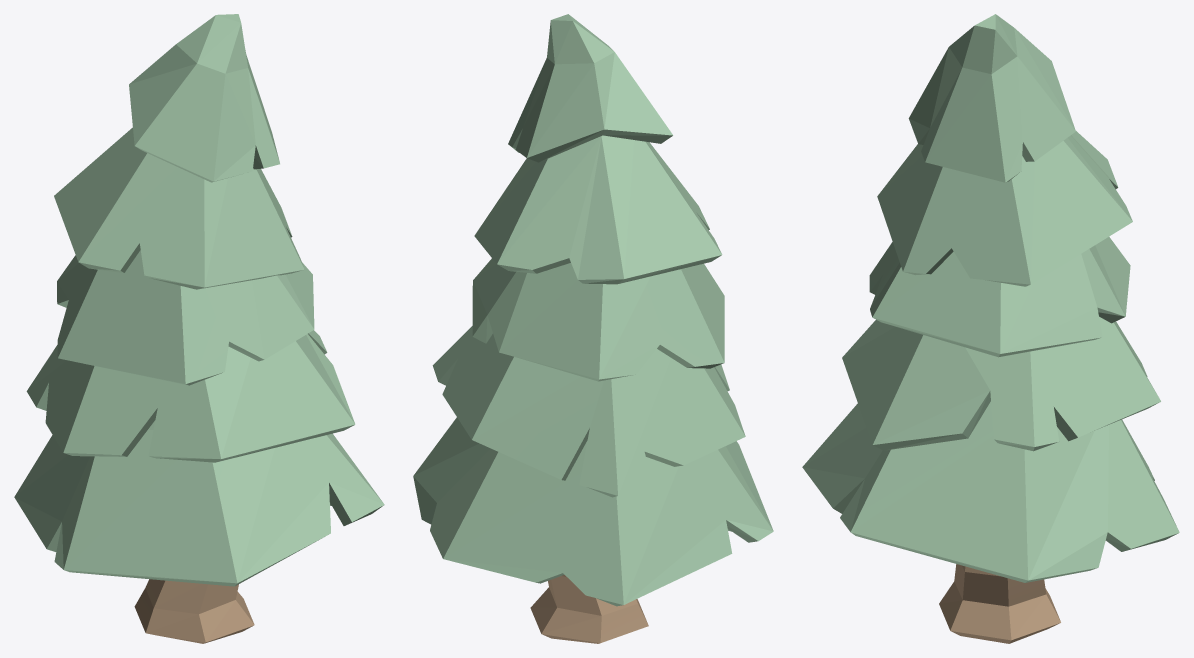
The model's file is CrookedPine.fbx.
The picture shows the model from 3 angles, left to right: view 1: azimuth 30°, elevation 25°; view 2: azimuth 150°, elevation 25°; view 3: azimuth 270°, elevation 25°; orthographic projection. The views are drawn at different scales.
Visible parts, largest first — view 1: crooked_; view 2: crooked_; view 3: crooked_.
Boxes of the visible parts, x1,y1,x2,y2 form: crooked_: (14,14,384,643); crooked_: (413,14,773,643); crooked_: (802,14,1179,643).
Size of the model in its own units: 0.9341 by 1.67 by 0.926.
